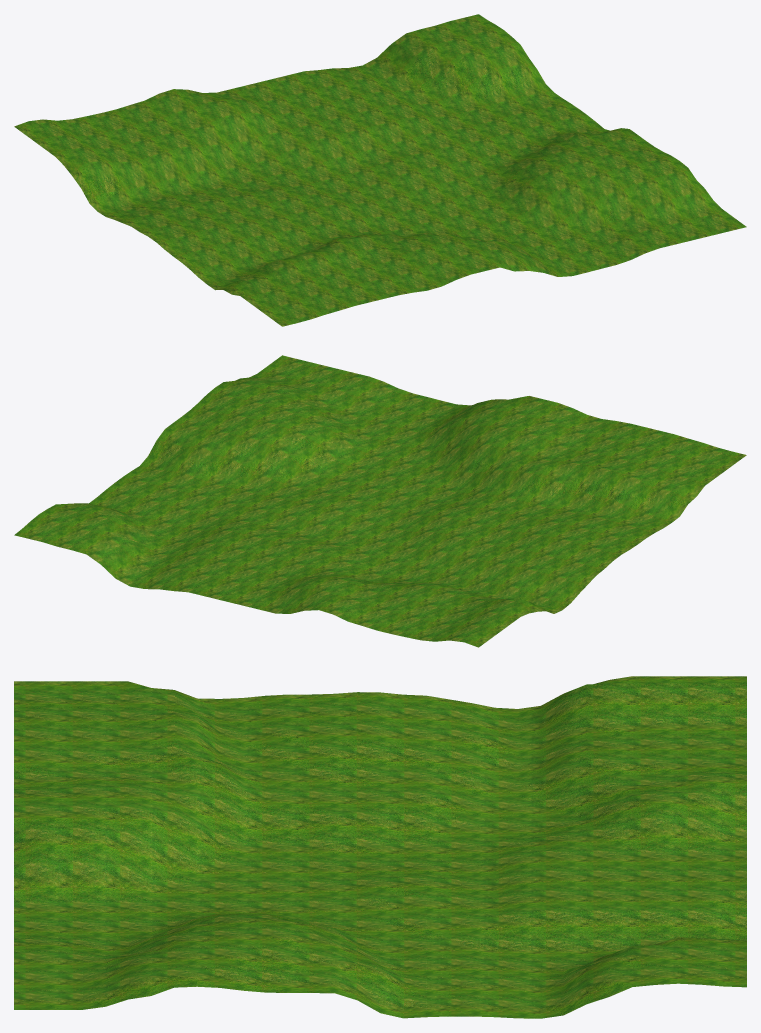
The picture shows the model from 3 angles, top to bottom: view 1: azimuth 30°, elevation 25°; view 2: azimuth 150°, elevation 25°; view 3: azimuth 270°, elevation 25°; orthographic projection. The views are drawn at different scales.
Visible parts, largest first — view 1: Plane; view 2: Plane; view 3: Plane.
Boxes of the visible parts, <box> form: Plane: <box>14,14,746,326</box>; Plane: <box>14,355,746,647</box>; Plane: <box>14,676,746,1018</box>.
Bounding box in the file's own units: 100 × 5.68 × 100.
Materials: 1 (1 with a texture image).
